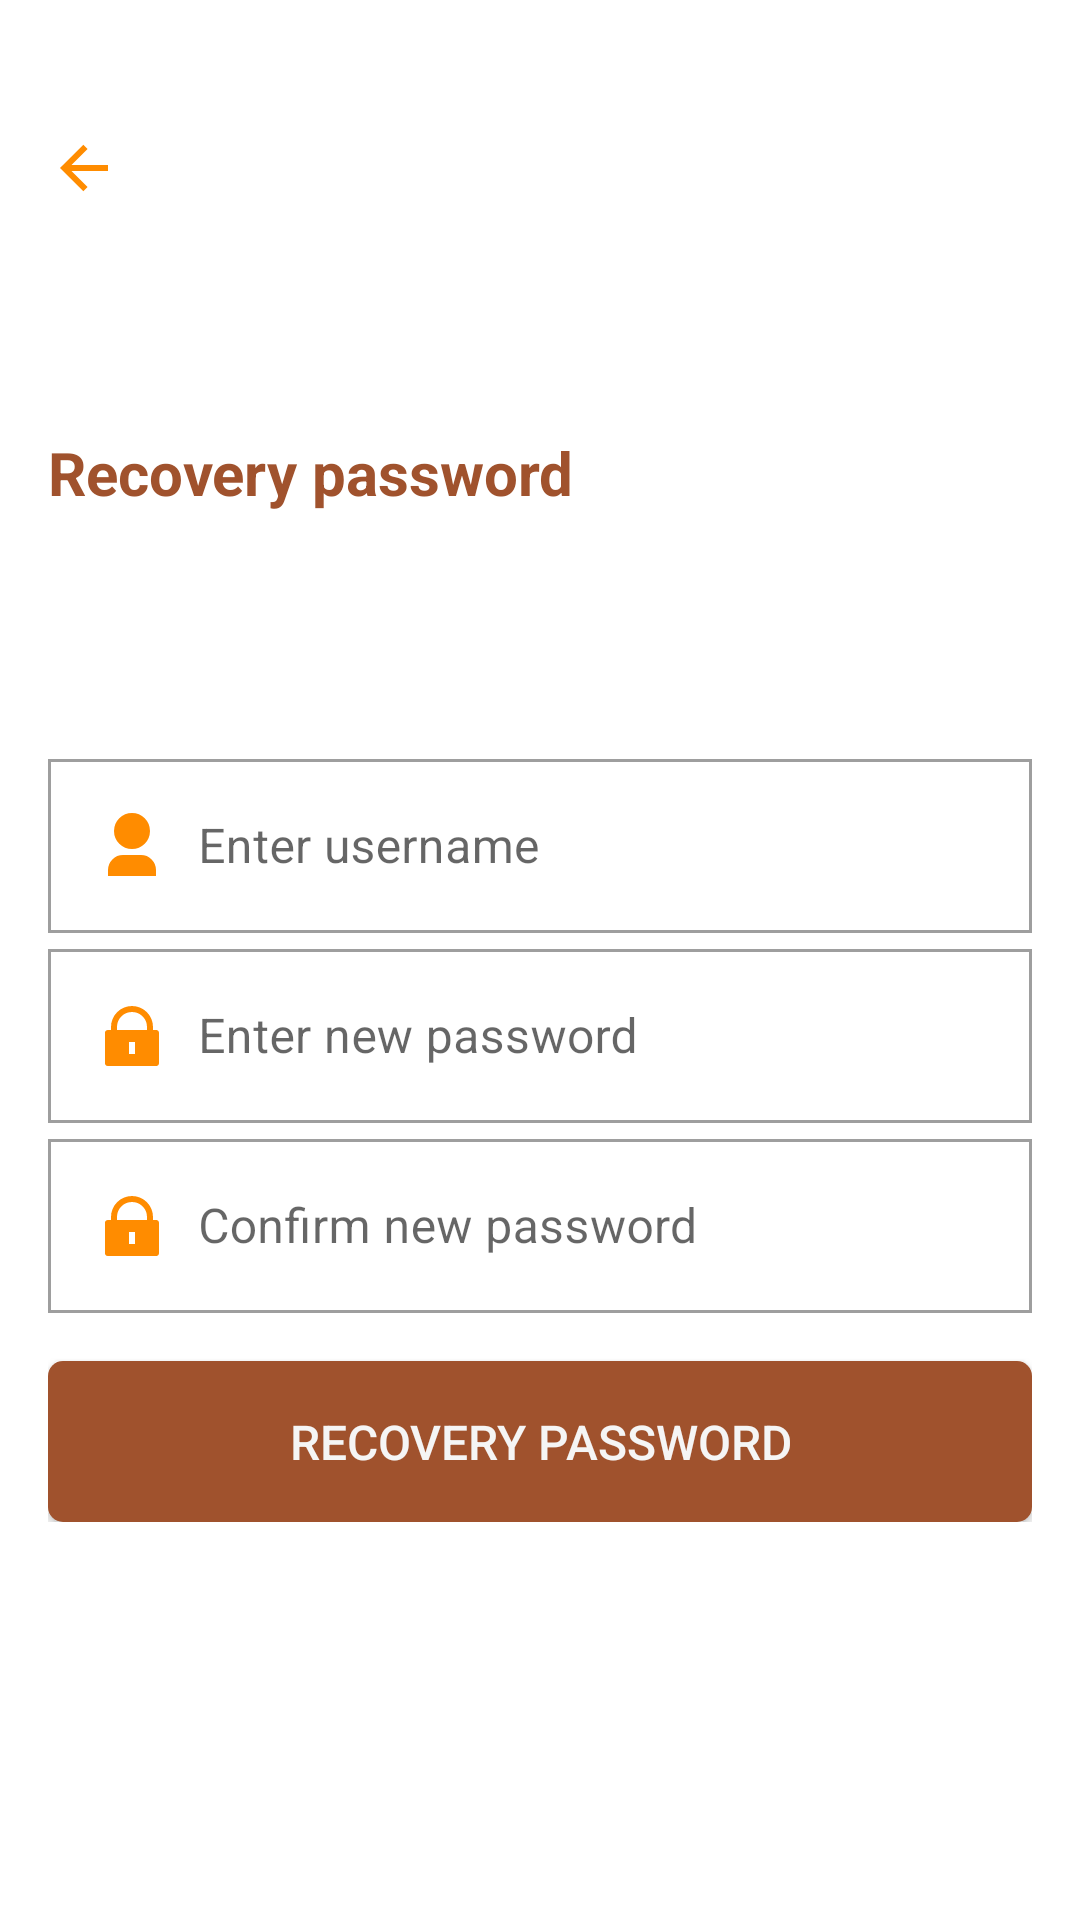

Where to tap for icons on this 1080px x 1920px app screen, as point (x, y):
back home: point (84, 168)
